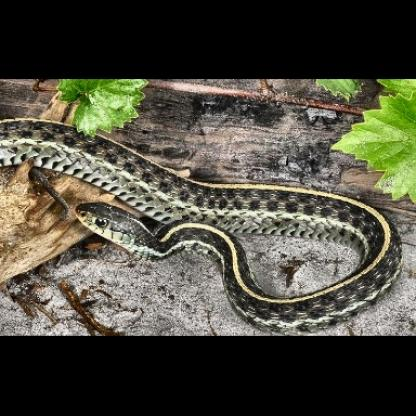Snake: (11, 101, 414, 318)
